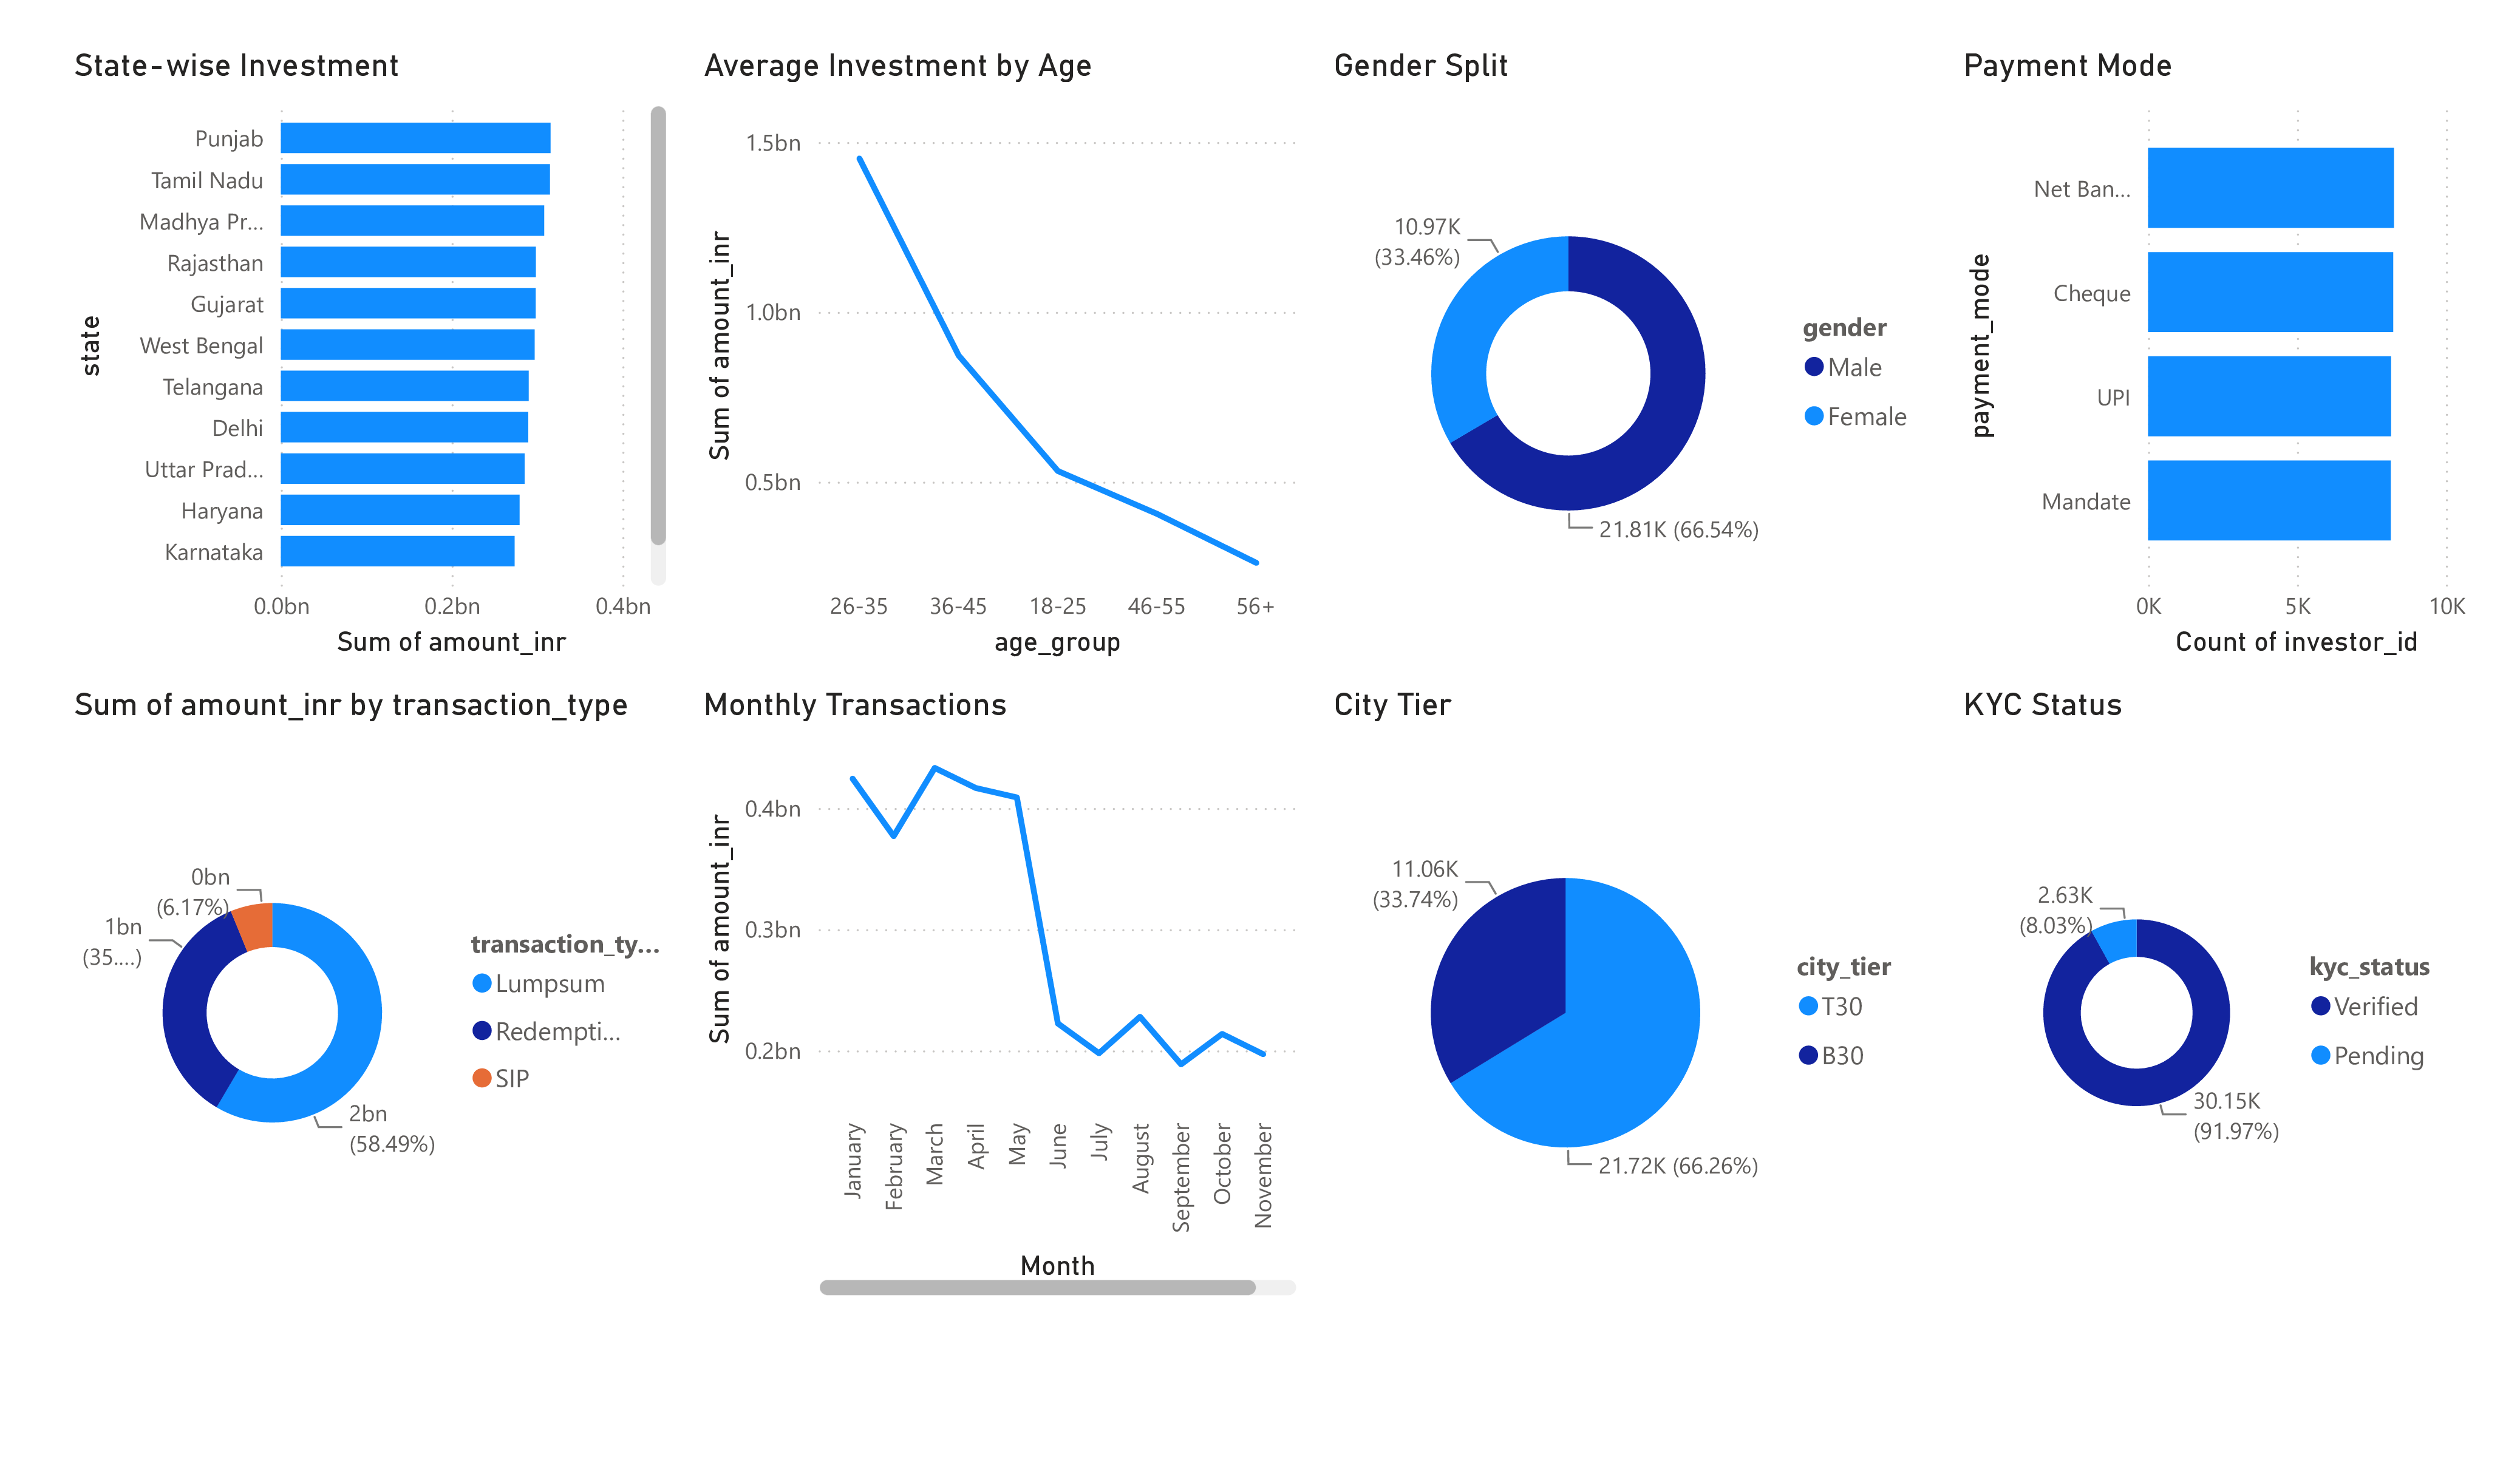

This screenshot's page, from the dashboard's own definition file:
{"tool":"powerbi","page":{"name":"Investor Analytics","canvas":[1280,720],"ordinal":2},"visuals":[{"type":"barChart","title":"State-wise Investment","fields":{"Y":["Sum(investor_transactions_cleaned.amount_inr)"],"Category":["investor_transactions_cleaned.state"]},"box":[10,0,321.8,326.8],"z":0},{"type":"donutChart","fields":{"Category":["investor_transactions_cleaned.transaction_type"],"Y":["Sum(investor_transactions_cleaned.amount_inr)"]},"box":[10,337,322,327],"z":1},{"type":"lineChart","title":"Average Investment by Age","fields":{"Category":["investor_transactions_cleaned.age_group"],"Y":["Sum(investor_transactions_cleaned.amount_inr)"]},"box":[342,0,322,327],"z":2},{"type":"lineChart","title":"Monthly Transactions","fields":{"Category":["investor_transactions_cleaned.transaction_date.Variation.Date Hierarchy.Month"],"Y":["Sum(investor_transactions_cleaned.amount_inr)"]},"box":[342,337,322,327],"z":3},{"type":"donutChart","title":"Gender Split","fields":{"Category":["investor_transactions_cleaned.gender"],"Y":["CountNonNull(investor_transactions_cleaned.investor_id)"]},"box":[674,0,322,327],"z":4},{"type":"pieChart","title":"City Tier","fields":{"Y":["CountNonNull(investor_transactions_cleaned.investor_id)"],"Category":["investor_transactions_cleaned.city_tier"]},"box":[674,337,322,327],"z":5},{"type":"barChart","title":"Payment Mode","fields":{"Category":["investor_transactions_cleaned.payment_mode"],"Y":["CountNonNull(investor_transactions_cleaned.investor_id)"]},"box":[1006,0,274,327],"z":6},{"type":"donutChart","title":"KYC Status","fields":{"Category":["investor_transactions_cleaned.kyc_status"],"Y":["CountNonNull(investor_transactions_cleaned.city_tier)"]},"box":[1006,337,274,327],"z":7}]}

Visuals, with their boxes on the page's 1280x720 design canvas (x1, y1, x2, y2). These are canvas units, not pixel positions in the 2520x1457 screenshot, which may show the page scaled, cropped or inside an application window:
"State-wise Investment" barChart: select_region(10, 0, 332, 327)
donutChart - investor_transactions_cleaned.transaction_type x Sum(investor_transactions_cleaned.amount_inr): select_region(10, 337, 332, 664)
"Average Investment by Age" lineChart: select_region(342, 0, 664, 327)
"Monthly Transactions" lineChart: select_region(342, 337, 664, 664)
"Gender Split" donutChart: select_region(674, 0, 996, 327)
"City Tier" pieChart: select_region(674, 337, 996, 664)
"Payment Mode" barChart: select_region(1006, 0, 1280, 327)
"KYC Status" donutChart: select_region(1006, 337, 1280, 664)
